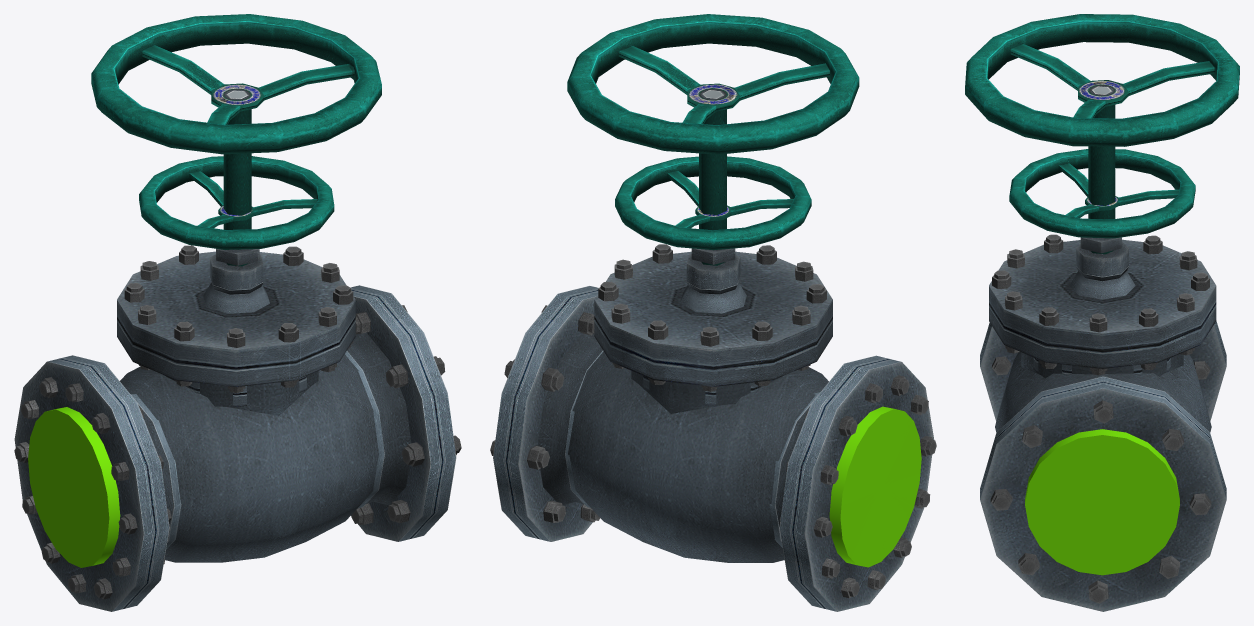
Rendered from StopValve_Group.fbx.
3 views of the same model, side by side, from view 1: azimuth 30°, elevation 25°; view 2: azimuth 150°, elevation 25°; view 3: azimuth 270°, elevation 25° (orthographic). The views are drawn at different scales.
Parts seen in each view (by area): view 1: Body (×2), Handle (×2), Point_Pos; view 2: Body (×2), Handle (×2), Point_Pos; view 3: Body, Handle (×2), Point_Pos.
Part boxes in pixels (x1,y1,x2,y2): Body (×2): (14,245,461,611); Handle (×2): (91,14,381,266); Point_Pos: (28,407,120,567); Body (×2): (490,244,936,611); Handle (×2): (567,14,859,265); Point_Pos: (829,406,921,567); Body: (980,234,1226,611); Handle (×2): (965,14,1239,254); Point_Pos: (1025,429,1179,575).
Size of the model in its own units: 7.82 by 10.95 by 5.8.
Materials: 2 (1 with a texture image).
